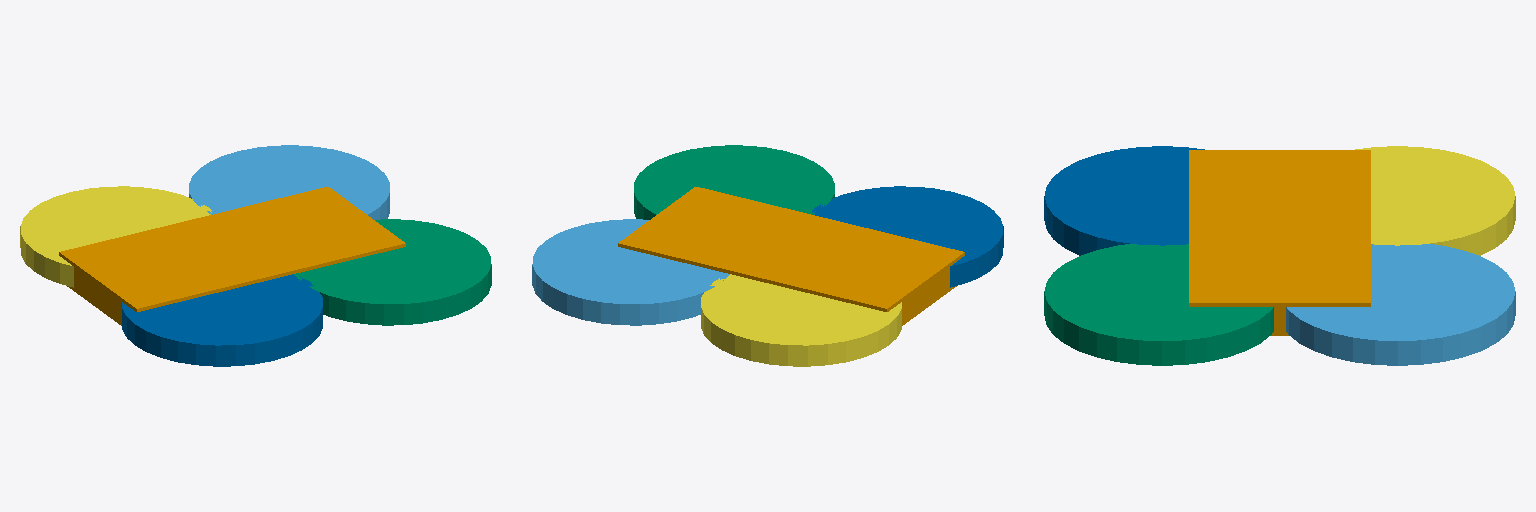
URDF robot description (drone):
<?xml version="1.0"?>
   <robot name="drone">
 
     <link name="base_link">
       <visual>
		 <origin xyz="0 0 0" rpy="0 0 0" />
         <geometry>
           <box size="0.4 0.2 0.04"/>
         </geometry>
       </visual>
       <collision>
		  <origin xyz="0 0 0" rpy="0 0 0" />
          <geometry>
            <box size="0.4 0.04 0.04"/>
          </geometry>
        </collision>
        <!--<inertial>
           <mass value="0.3"/>
           <inertia ixx="1.0" ixy="0.0" ixz="0.0" iyy="1.0" iyz="0.0" izz="1.0"/>
         </inertial>-->
     </link>

     <link name="FL">
       <visual>
		 <origin xyz="0.16 0.13 0" rpy="0 0 0" />
         <geometry>
            <cylinder length="0.03" radius="0.13"/>
         </geometry>
       </visual>
       <collision>
          <origin xyz="0.16 0.13 0" rpy="0 0 0" />
          <geometry>
            <cylinder length="0.03" radius="0.13"/>
          </geometry>
        </collision>
        <inertial>
           <mass value="0.2"/>
           <inertia ixx="1.0" ixy="0.0" ixz="0.0" iyy="1.0" iyz="0.0" izz="1.0"/>
         </inertial>
     </link>
     <link name="FR">
       <visual>
		 <origin xyz="0.16 -0.13 0" rpy="0 0 0" />
         <geometry>
            <cylinder length="0.03" radius="0.13"/>
         </geometry>
       </visual>
       <collision>
          <origin xyz="0.16 -0.13 0" rpy="0 0 0" />
          <geometry>
            <cylinder length="0.03" radius="0.13"/>
          </geometry>
        </collision>
        <inertial>
           <mass value="0.2"/>
           <inertia ixx="1.0" ixy="0.0" ixz="0.0" iyy="1.0" iyz="0.0" izz="1.0"/>
         </inertial>
     </link>
     <link name="BL">
       <visual>
		 <origin xyz="-0.09 0.13 0" rpy="0 0 0" />
         <geometry>
            <cylinder length="0.03" radius="0.13"/>
         </geometry>
       </visual>
       <collision>
          <origin xyz="-0.09 0.13 0" rpy="0 0 0" />
          <geometry>
            <cylinder length="0.03" radius="0.13"/>
          </geometry>
        </collision>
        <inertial>
           <mass value="0.2"/>
           <inertia ixx="1.0" ixy="0.0" ixz="0.0" iyy="1.0" iyz="0.0" izz="1.0"/>
         </inertial>
     </link>
     <link name="BR">
       <visual>
		 <origin xyz="-0.09 -0.13 0" rpy="0 0 0" />
         <geometry>
            <cylinder length="0.03" radius="0.13"/>
         </geometry>
       </visual>
       <collision>
          <origin xyz="-0.09 -0.13 0" rpy="0 0 0" />
          <geometry>
            <cylinder length="0.03" radius="0.13"/>
          </geometry>
        </collision>
        <inertial>
           <mass value="0.2"/>
           <inertia ixx="1.0" ixy="0.0" ixz="0.0" iyy="1.0" iyz="0.0" izz="1.0"/>
         </inertial>
     </link>
	 
     <joint name="base_to_FL" type="fixed">
       <parent link="base_link"/>
       <child link="FL"/>
     </joint>
     <joint name="base_to_FR" type="fixed">
       <parent link="base_link"/>
       <child link="FR"/>
     </joint>
     <joint name="base_to_BL" type="fixed">
       <parent link="base_link"/>
       <child link="BL"/>
     </joint>
     <joint name="base_to_BR" type="fixed">
       <parent link="base_link"/>
       <child link="BR"/>
     </joint>
     

     <gazebo reference="base_link">
       <material>Gazebo/Blue</material>
       <turnGravityOff>true</turnGravityOff>
     </gazebo>
   </robot>

--- Facts derived from the render (not from the file) ---
3 views of the same robot in one strip: view 1: azimuth 30°, elevation 25°; view 2: azimuth 150°, elevation 25°; view 3: azimuth 270°, elevation 25° (orthographic).
Robot: drone — 5 links, 4 joints (4 fixed); root link base_link; default pose: every joint at zero.
Visible links, largest first — view 1: base_link, FR, BR, FL, BL; view 2: base_link, FL, BL, FR, BR; view 3: base_link, FL, FR, BL, BR.
Link boxes in pixels (x1,y1,x2,y2): base_link: (59, 187, 405, 325); FR: (294, 219, 491, 325); BR: (122, 274, 322, 366); FL: (189, 145, 389, 219); BL: (20, 186, 211, 287); base_link: (618, 187, 964, 325); FL: (532, 219, 729, 325); BL: (701, 274, 901, 366); FR: (634, 145, 834, 219); BR: (812, 186, 1003, 287); base_link: (1189, 150, 1370, 335); FL: (1286, 244, 1515, 365); FR: (1044, 244, 1273, 365); BL: (1355, 146, 1515, 255); BR: (1044, 146, 1204, 255).
Bounding box of the posed robot: 0.51 × 0.52 × 0.04 m (x, y, z).
Geometry: primitives only (box / cylinder / sphere), no mesh files.